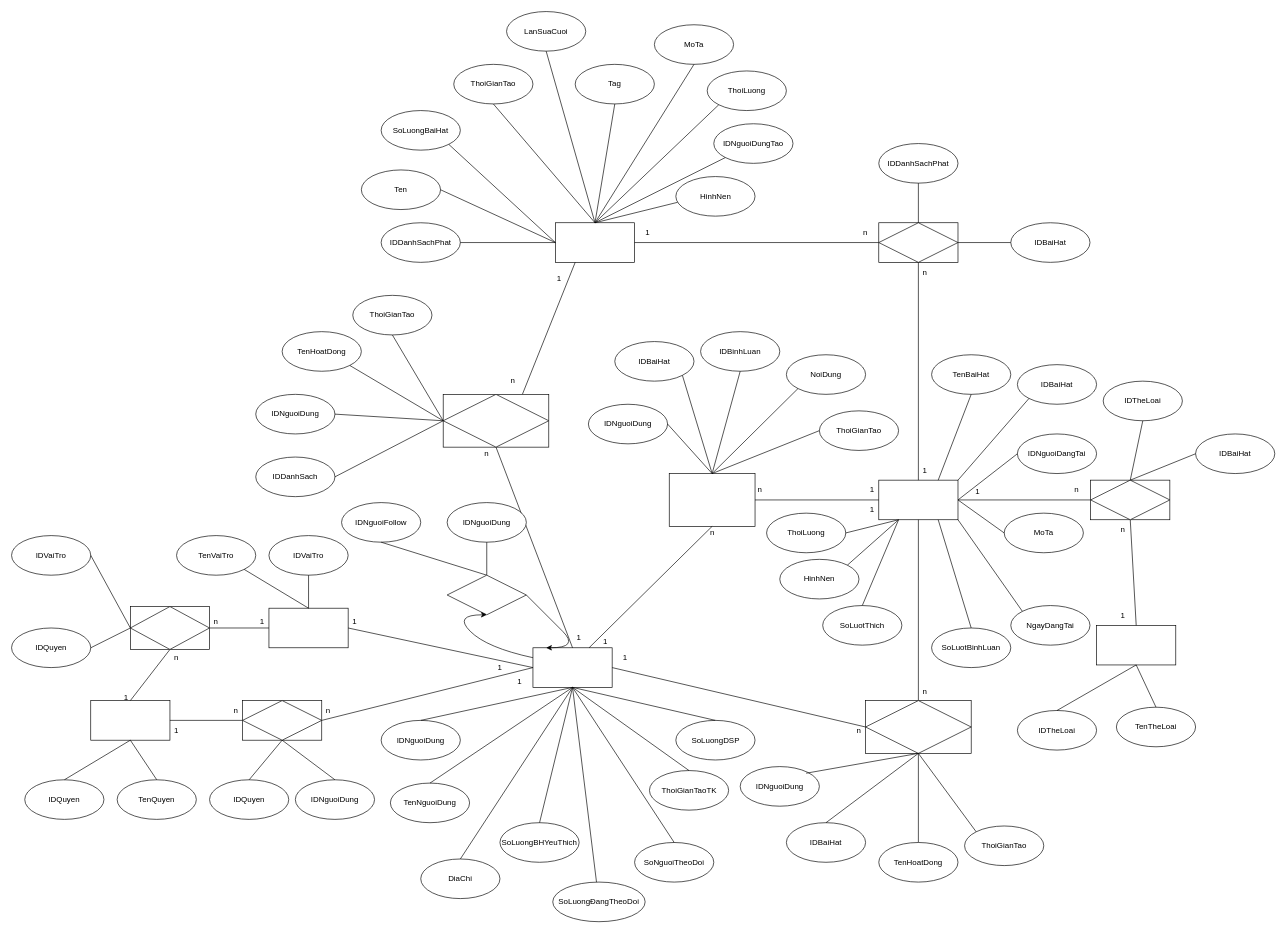
This 1286x933 diagram has some shape labels left out. Each missing label, with the centre of its shape:
"BaiHat" belongs at (918,499).
"BaiHat_DSP" belongs at (918,242).
"BaiHat_TheLoai" belongs at (1130,499).
"BinhLuan" belongs at (712,499).
"DanhSachPhat" belongs at (595,242).
"HoatDongNguoiDung_BH" belongs at (918,726).
"HoatDongNguoiDung_DS" belongs at (496,420).
"ND_Quyen" belongs at (282,720).
"NguoiDung" belongs at (572,667).
"Quyen" belongs at (130,720).
"TheoDoi" belongs at (486,595).
"Thể loại" belongs at (1136,645).
"VaiTro" belongs at (308,628).
"VaiTro_Quyen" belongs at (170,627).
